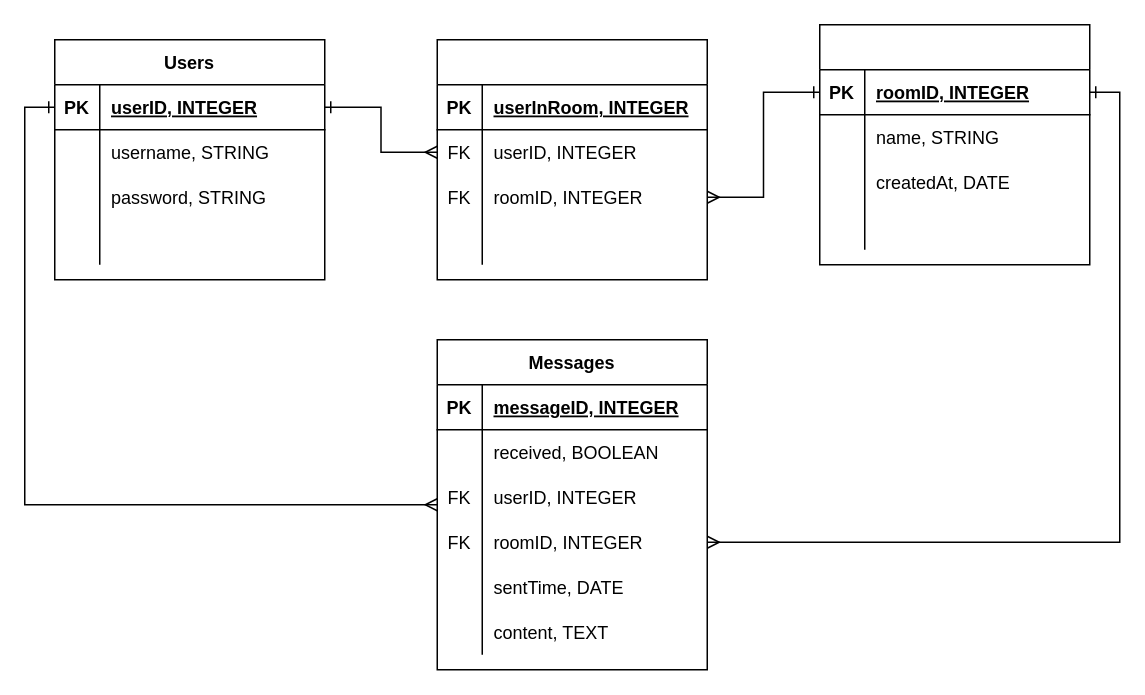
The diagram is 1145 pixels wide and 695 high, and some of its shapes have lost their labels. The box of each missing label's shape, as (x1, y1, x2, y2) in pixels:
Rooms: (818, 23, 1090, 265)
UsersInRoom: (436, 38, 707, 280)
